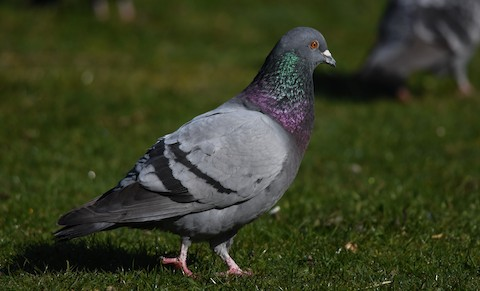pigeon: (46, 22, 339, 282)
